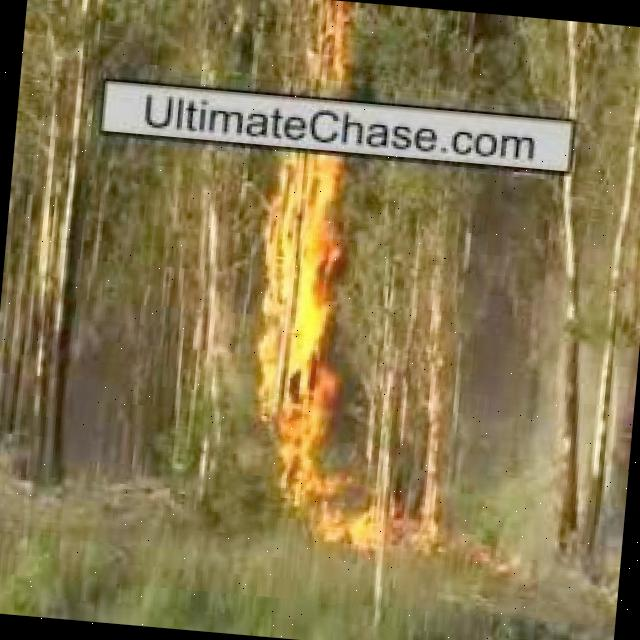fire: (254, 158, 354, 418), (264, 432, 446, 562), (309, 5, 356, 90)
